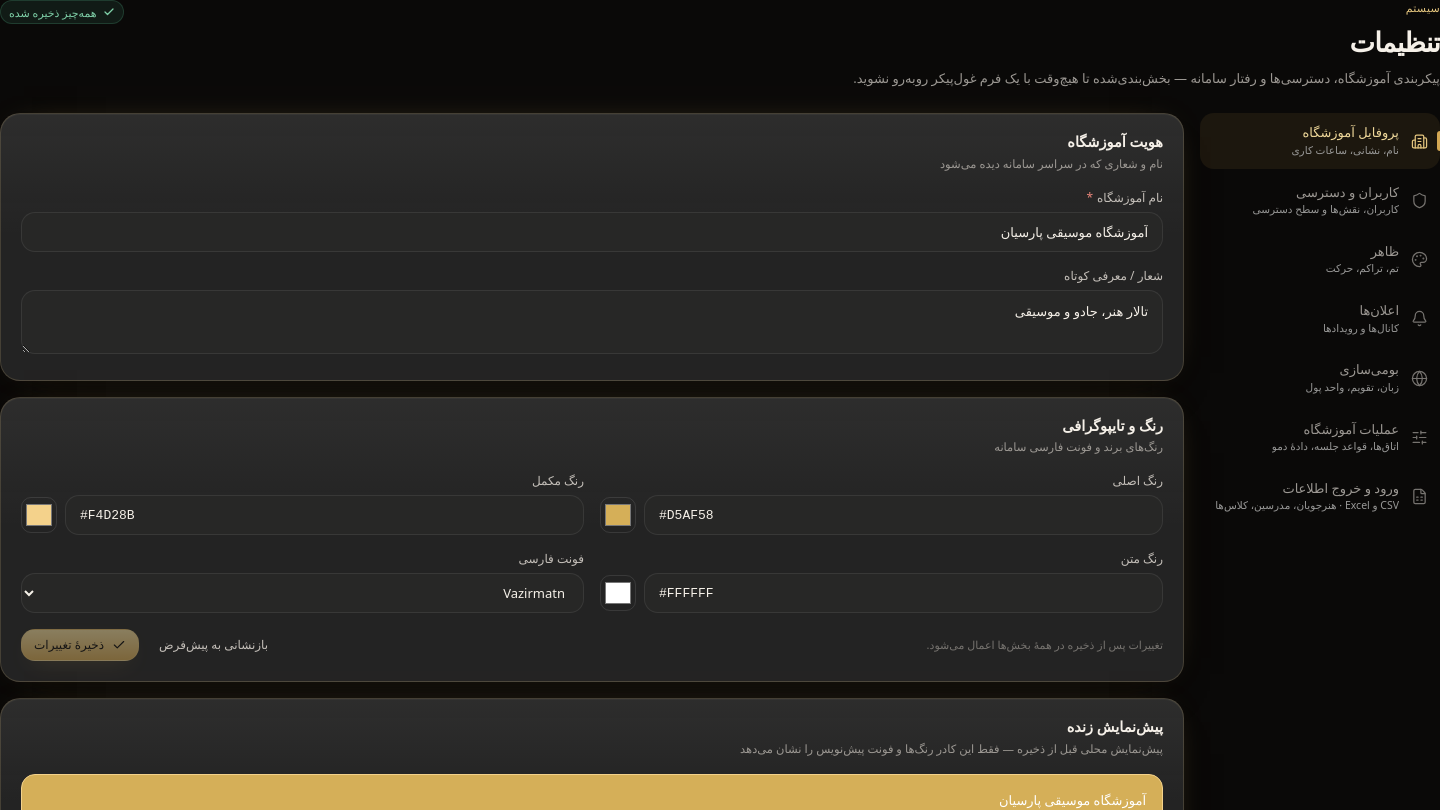
Scenario: M-6 unimplemented settings do NOT report fake success › localization panel discloses not connected and disables selects
Click the button "بومی‌سازی زبان، تقویم، واحد پول" at (1320, 378), box [1200,350,1439,406]
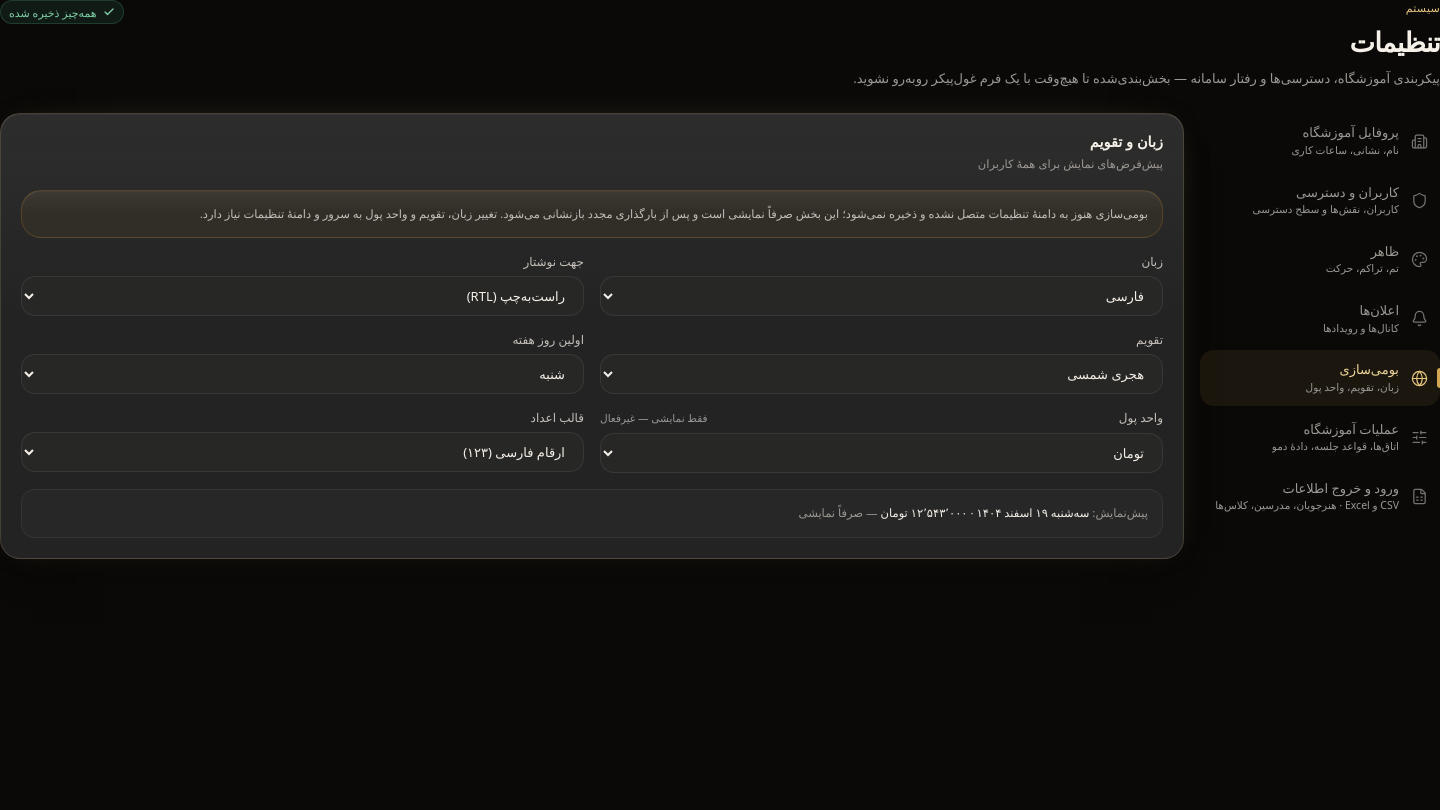
Expected: the text "بومی‌سازی هنوز به دامنهٔ تنظیمات متصل نشده" shows "صرفاً نمایشی", [200,206,1148,221]
Expected: the text "بومی‌سازی هنوز به دامنهٔ تنظیمات متصل نشده" shows "ذخیره نمی‌شود", [200,206,1148,221]
Expected: the dropdown labelled "زبان" is disabled, [600,276,1163,316]
